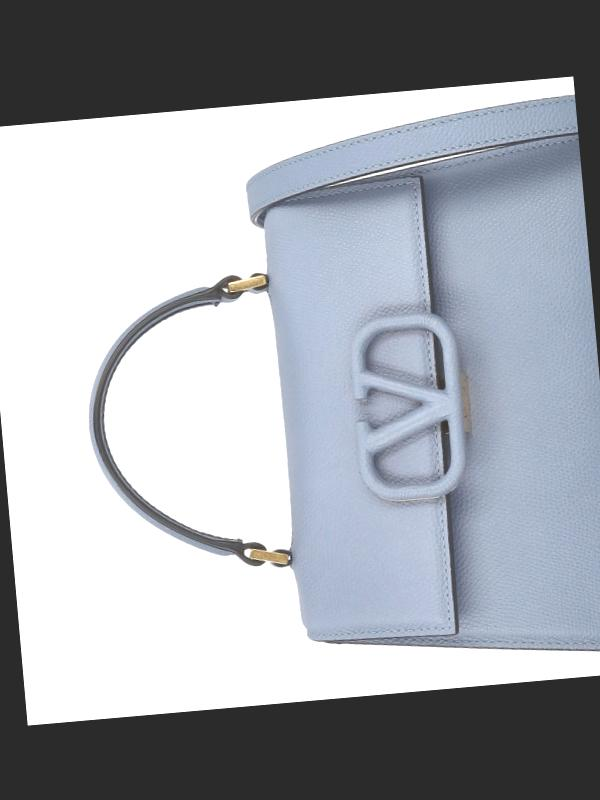VALENTINO: (344, 308, 472, 504)
